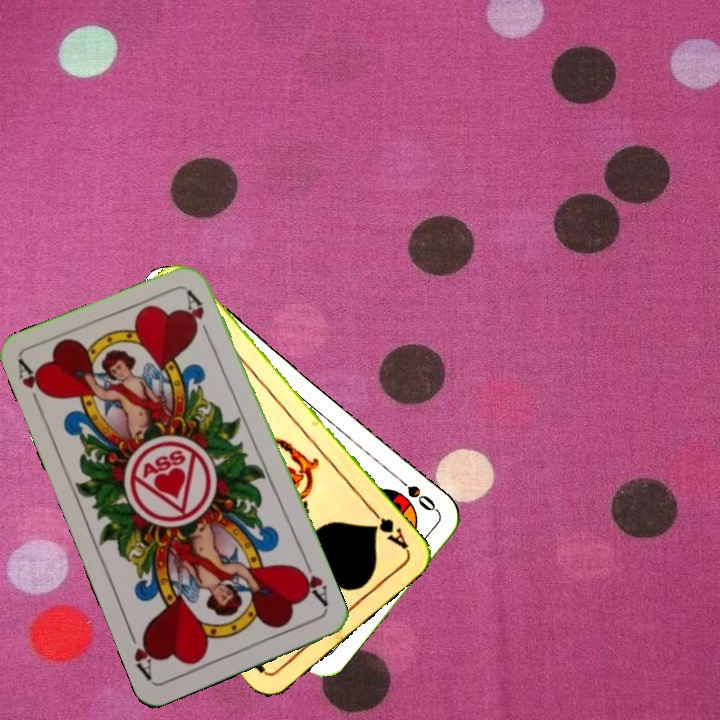GA: (366, 504, 411, 552)
HA: (291, 555, 331, 611), (13, 357, 51, 414)
SO: (390, 471, 440, 514)
